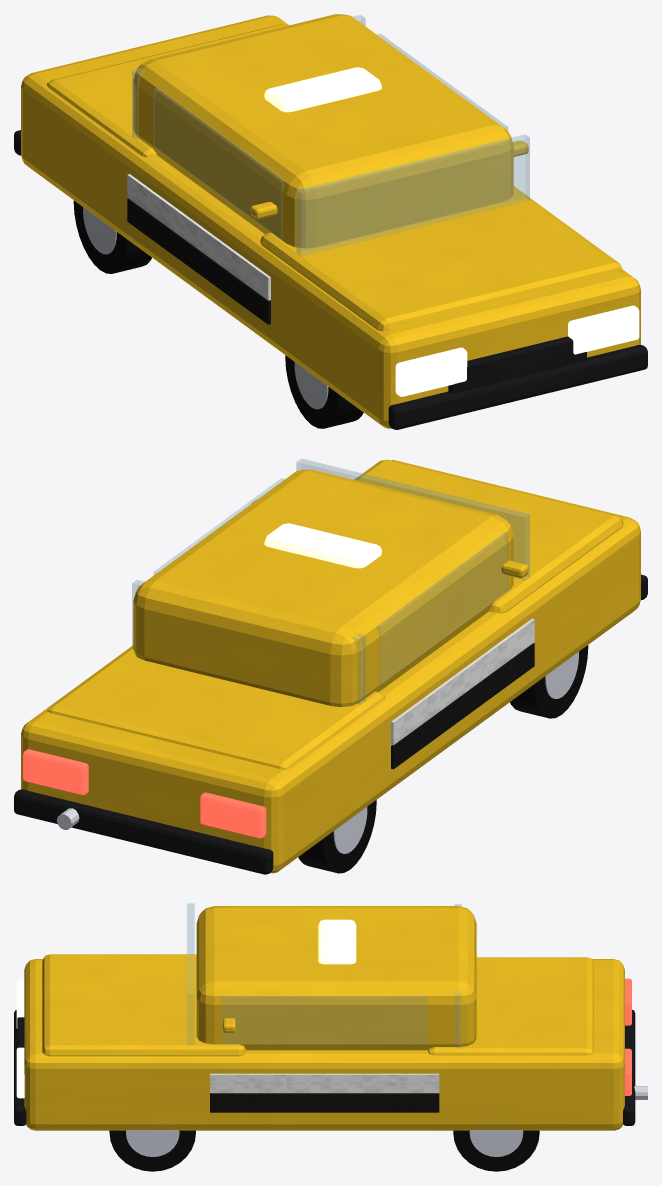
The model's file is car_taxi.glb.
The picture shows the model from 3 angles, top to bottom: view 1: azimuth 30°, elevation 25°; view 2: azimuth 150°, elevation 25°; view 3: azimuth 270°, elevation 25°; orthographic projection. The views are drawn at different scales.
Parts seen in each view (by area): view 1: car_taxi_cabin, car_taxi_body_lower, car_taxi_bonnet, car_taxi_glass_front, car_taxi_glass_side_l, car_taxi_bumper_front, car_taxi_boot, car_taxi_grille, car_taxi_roof_sign, car_taxi_headlight_l, car_taxi_headlight_r, tyre_fl (+16 smaller); view 2: car_taxi_cabin, car_taxi_body_lower, car_taxi_boot, car_taxi_bonnet, car_taxi_glass_side_l, car_taxi_bumper_rear, car_taxi_roof_sign, car_taxi_glass_front, car_taxi_taillight_l, car_taxi_taillight_r, tyre_fl, tyre_rl (+15 smaller); view 3: car_taxi_body_lower, car_taxi_cabin, car_taxi_bonnet, car_taxi_boot, car_taxi_glass_side_r, tyre_fr, tyre_rr, car_taxi_roof_sign, hub_rr, hub_fr, car_taxi_glass_front, car_taxi_bumper_rear (+15 smaller).
Boxes of the visible parts, box(x1,y1,x2,y2) form: car_taxi_cabin: box(133, 14, 513, 248); car_taxi_body_lower: box(21, 15, 640, 428); car_taxi_bonnet: box(260, 186, 623, 331); car_taxi_glass_front: box(296, 134, 529, 255); car_taxi_glass_side_l: box(154, 88, 284, 239); car_taxi_bumper_front: box(388, 345, 647, 429); car_taxi_boot: box(47, 24, 288, 157); car_taxi_grille: box(448, 336, 586, 393); car_taxi_roof_sign: box(264, 67, 381, 112); car_taxi_headlight_l: box(395, 347, 467, 396); car_taxi_headlight_r: box(568, 305, 639, 354); tyre_fl: box(285, 355, 363, 428); car_taxi_cabin: box(133, 469, 513, 707); car_taxi_body_lower: box(21, 460, 640, 873); car_taxi_boot: box(47, 646, 385, 769); car_taxi_bonnet: box(354, 459, 623, 613); car_taxi_glass_side_l: box(377, 533, 507, 684); car_taxi_bumper_rear: box(14, 789, 273, 874); car_taxi_roof_sign: box(264, 523, 381, 568); car_taxi_glass_front: box(296, 458, 529, 580); car_taxi_taillight_l: box(200, 792, 266, 838); car_taxi_taillight_r: box(23, 749, 88, 794); tyre_fl: box(510, 645, 588, 718); tyre_rl: box(298, 800, 376, 873); car_taxi_body_lower: box(24, 959, 624, 1130); car_taxi_cabin: box(196, 906, 476, 1050); car_taxi_bonnet: box(42, 954, 246, 1056); car_taxi_boot: box(428, 957, 593, 1055); car_taxi_glass_side_r: box(221, 996, 427, 1043); tyre_fr: box(109, 1130, 195, 1171); tyre_rr: box(453, 1130, 539, 1171); car_taxi_roof_sign: box(318, 919, 356, 964); hub_rr: box(469, 1130, 523, 1156); hub_fr: box(126, 1130, 179, 1156); car_taxi_glass_front: box(187, 903, 194, 1044); car_taxi_bumper_rear: box(623, 1009, 635, 1125).
Size of the model in its own units: 2.01 by 1.61 by 4.98.
59 materials, 59 textured.
